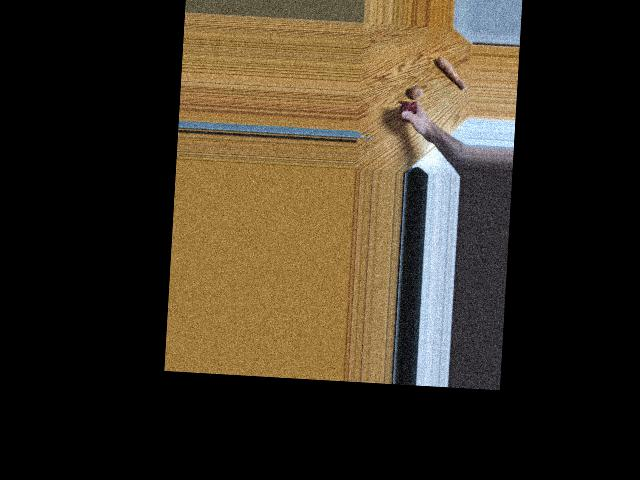onion: (410, 86, 428, 104)
